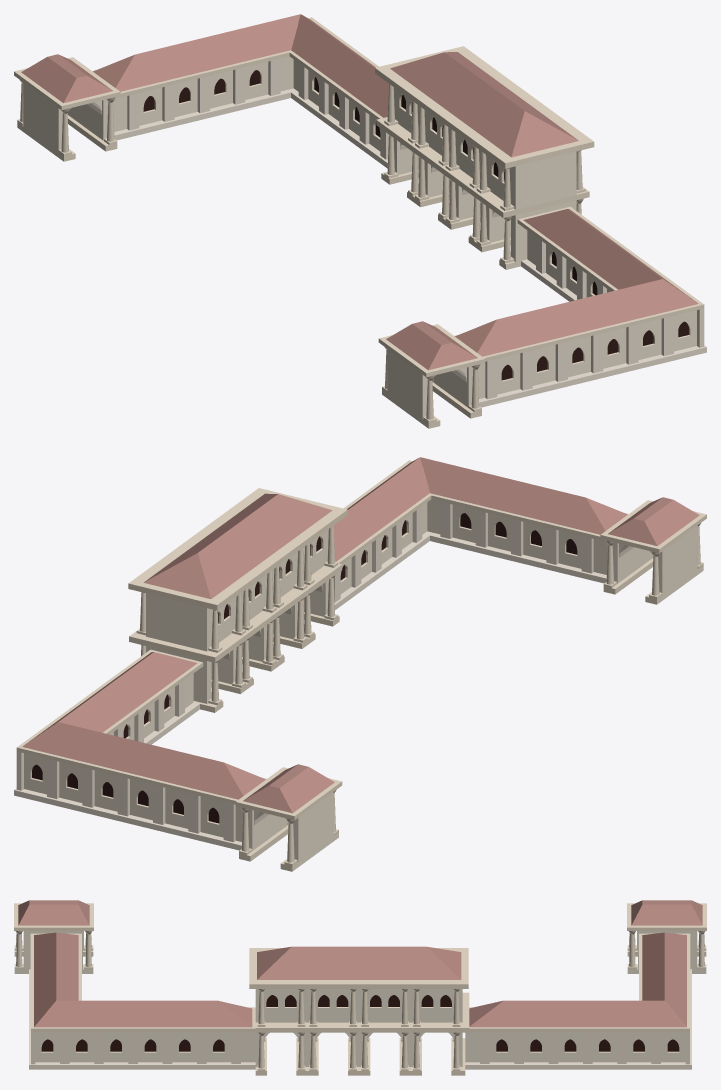
The model's file is MediumHouses.fbx.
3 views of the same model, one above another, from view 1: azimuth 30°, elevation 25°; view 2: azimuth 150°, elevation 25°; view 3: azimuth 270°, elevation 25° (orthographic). The views are drawn at different scales.
Visible parts, largest first — view 1: buildings11; view 2: buildings11; view 3: buildings11.
Boxes of the visible parts, left/top/right/bottom form: buildings11: left=14, top=14, right=706, bottom=428; buildings11: left=14, top=457, right=706, bottom=871; buildings11: left=14, top=900, right=706, bottom=1075.
Bounding box in the file's own units: 41.62 × 17.25 × 96.53.
